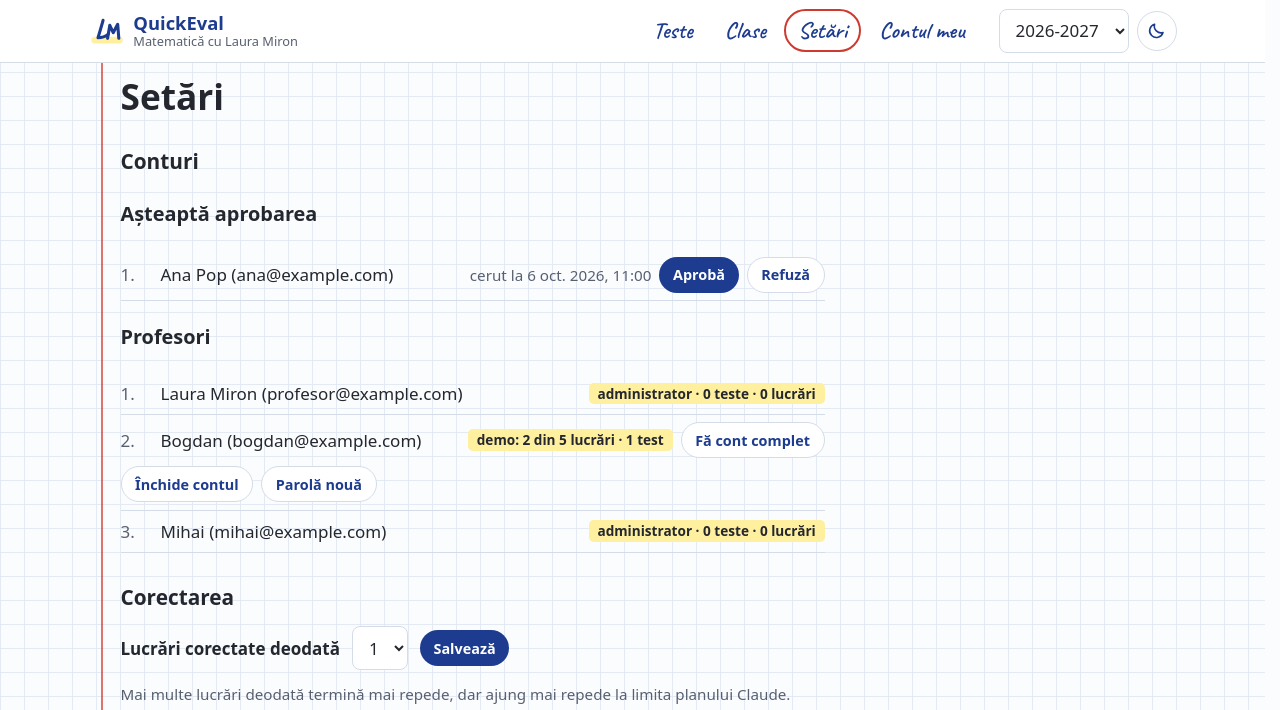
Test: the accounts on Setări › refuses an account after a confirmation
The width and height of the screenshot is (1280, 710).
Click the button with aria-label "Refuză Ana Pop" at (786, 275), box [747,257,824,293]
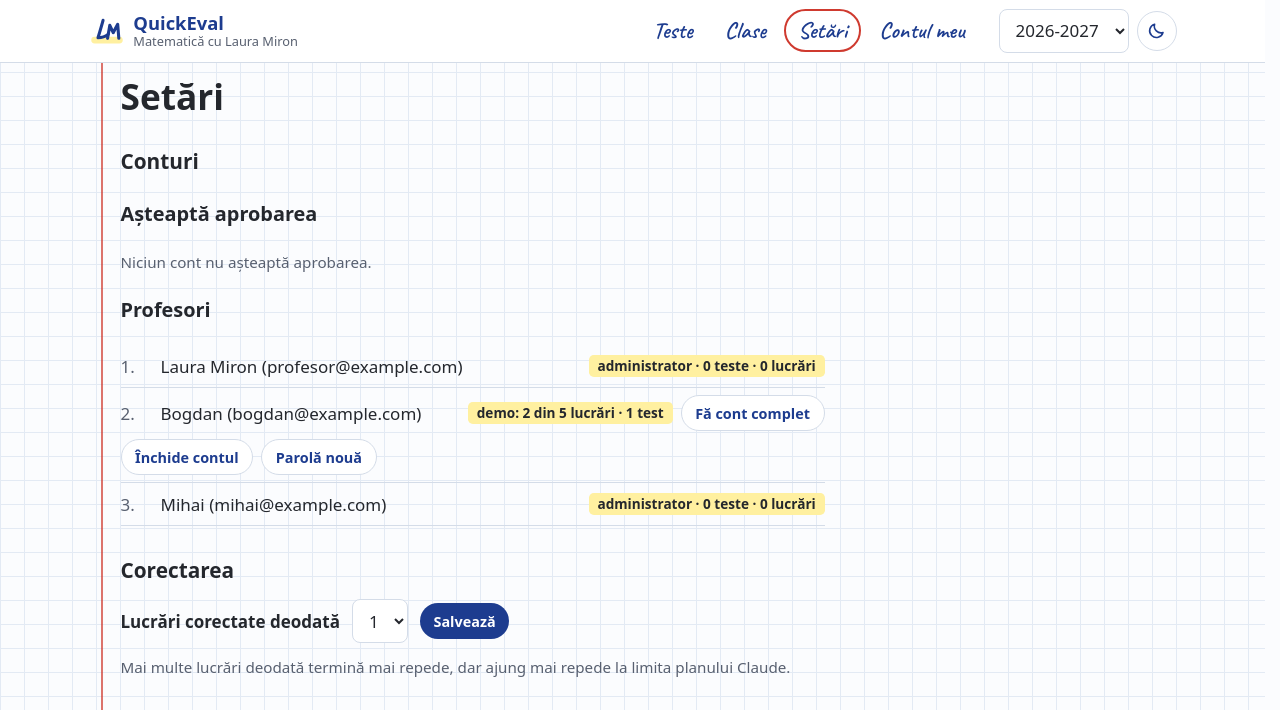
Expected: the text "Niciun cont nu așteaptă aprobarea." is shown, [120,252,372,272]
